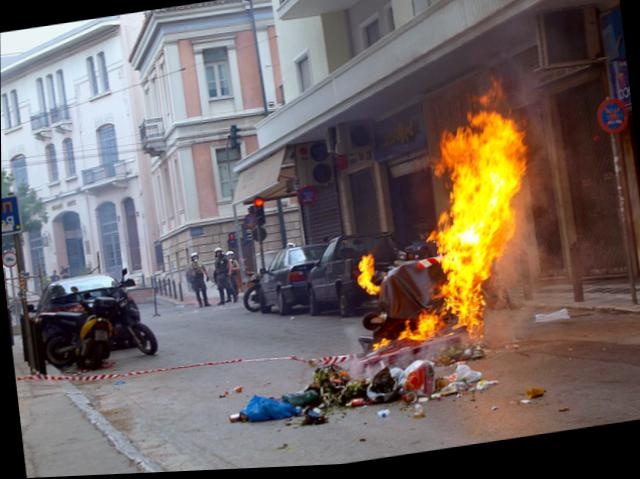fire: (332, 83, 546, 361)
